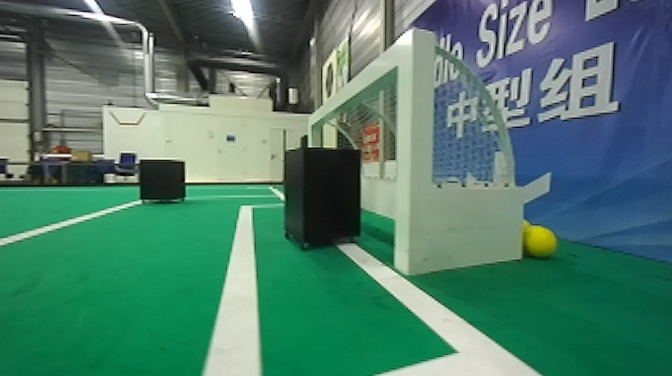ball: (517, 216, 565, 264)
goalpost: (389, 27, 439, 271), (301, 115, 327, 151)
